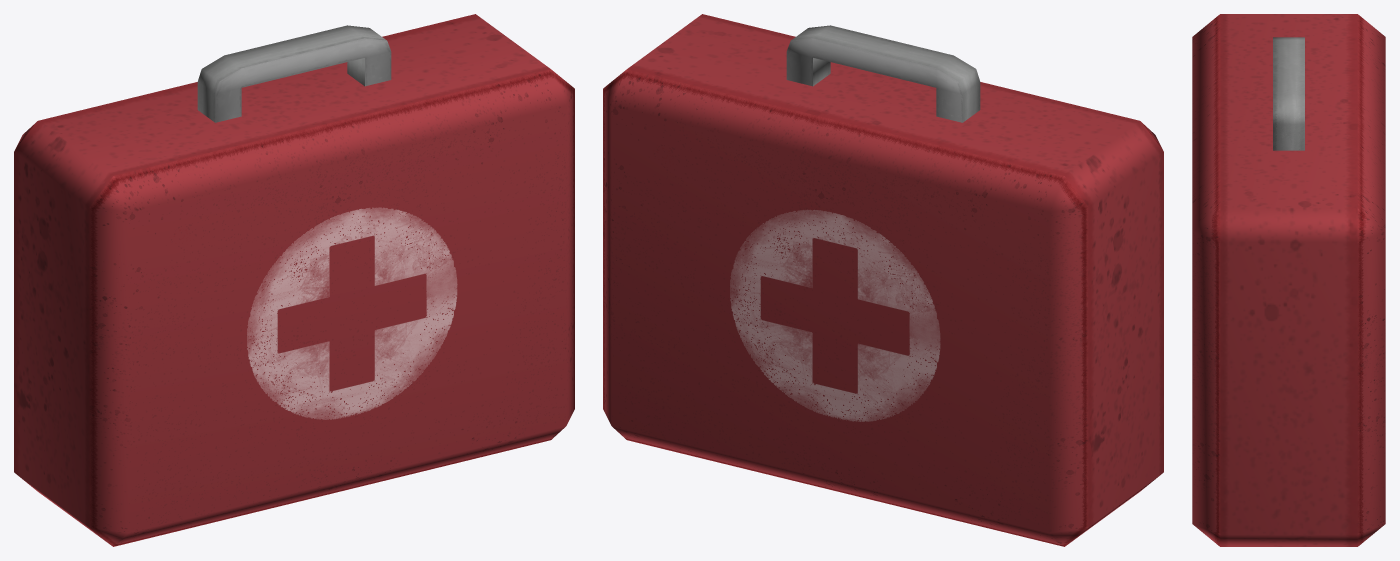
The model's file is SM_Medkit.fbx.
3 views of the same model, side by side, from view 1: azimuth 30°, elevation 25°; view 2: azimuth 150°, elevation 25°; view 3: azimuth 270°, elevation 25° (orthographic). The views are drawn at different scales.
Visible parts, largest first — view 1: SM_Medkit; view 2: SM_Medkit; view 3: SM_Medkit.
Part boxes in pixels (x1=…): SM_Medkit: x1=14, y1=14, x2=574, y2=546; SM_Medkit: x1=603, y1=14, x2=1163, y2=546; SM_Medkit: x1=1192, y1=14, x2=1385, y2=546.
Bounding box in the file's own units: 0.4248 × 0.3506 × 0.1606.
1 material, 1 textured.
